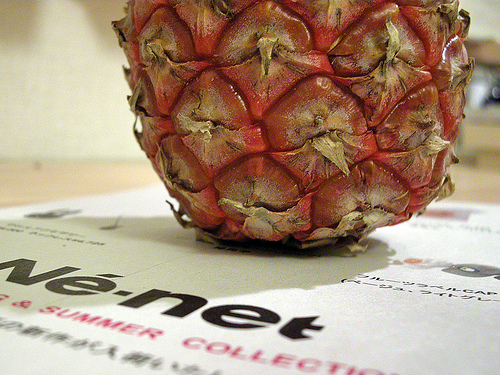pineapple: (107, 0, 477, 257)
